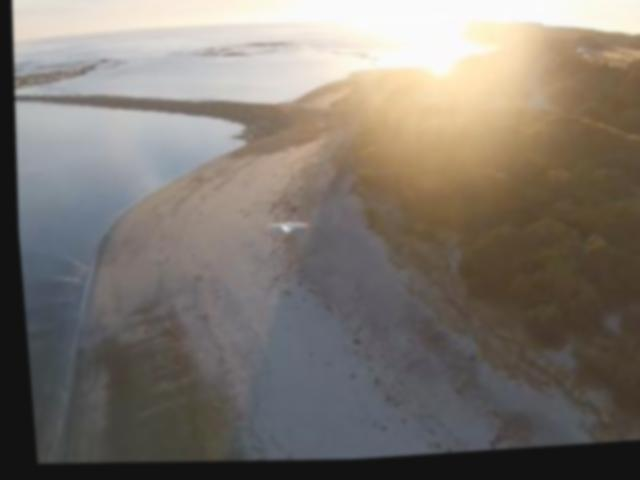uav: (259, 216, 311, 242)
